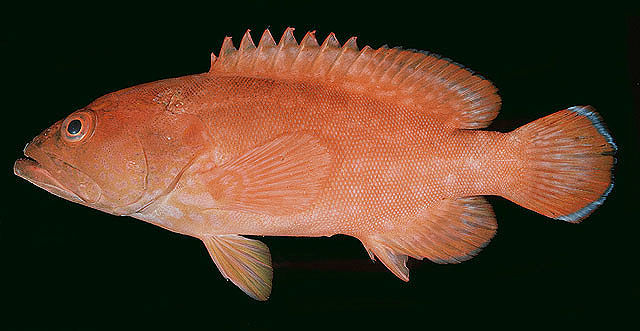fish: (14, 26, 617, 303)
